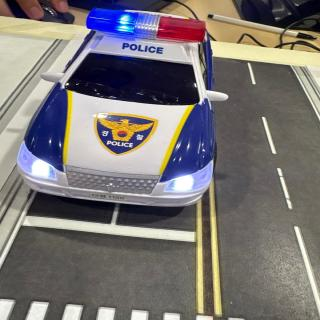Police_car: (17, 8, 228, 206)
